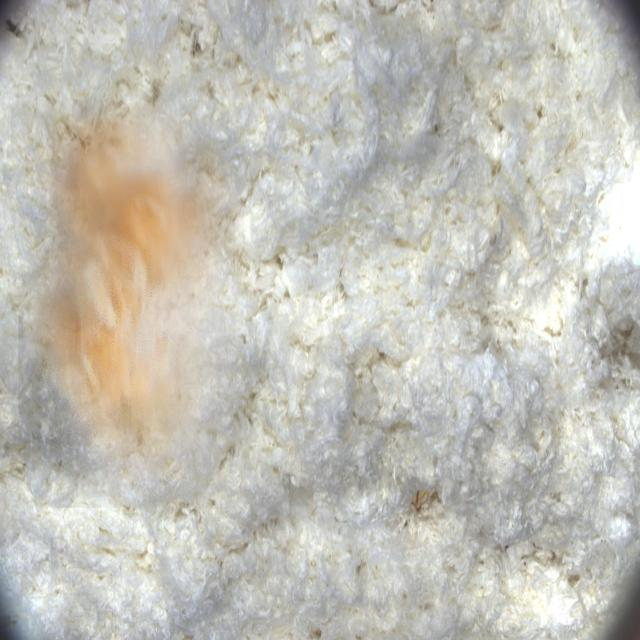dust: (18, 103, 244, 508)
